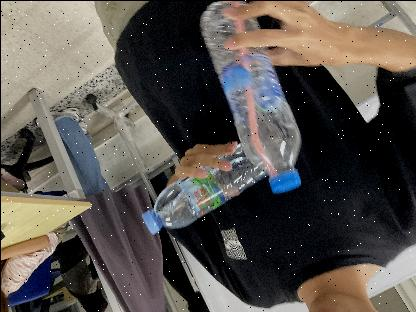Plastic Bottle: (198, 0, 300, 192), (140, 140, 270, 234)
